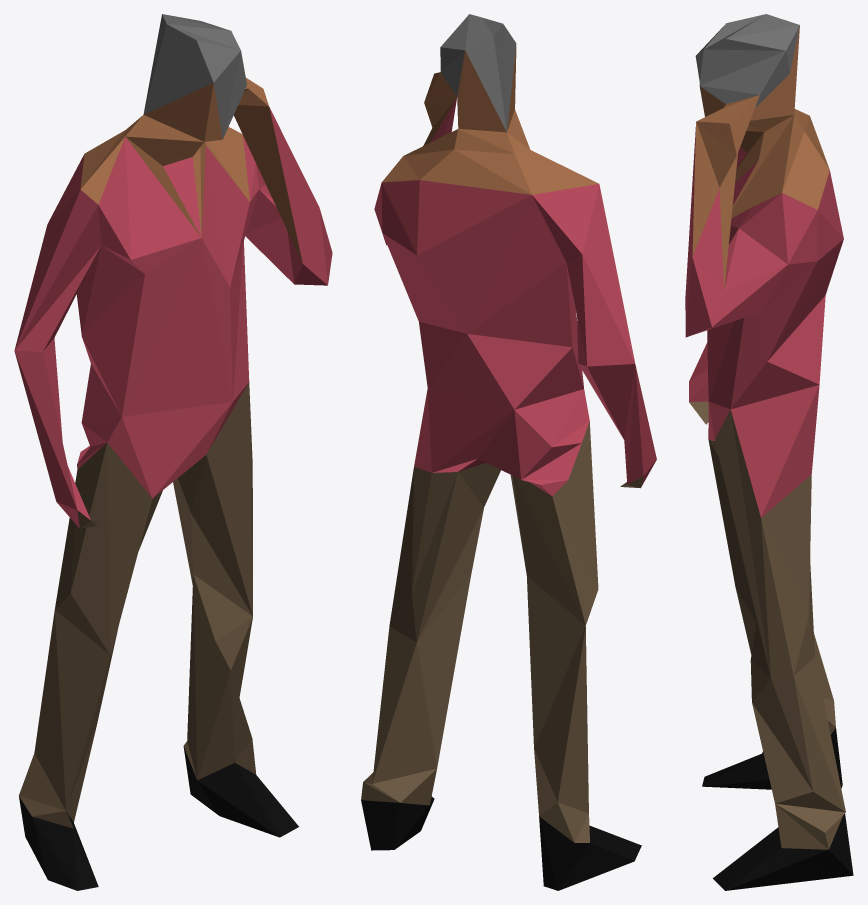
Rendered from walker-35.glb.
3 renders of one model, left to right at view 1: azimuth 30°, elevation 25°; view 2: azimuth 150°, elevation 25°; view 3: azimuth 270°, elevation 25°, orthographic. The views are drawn at different scales.
Visible parts, largest first — view 1: Man06; view 2: Man06; view 3: Man06.
Boxes of the visible parts, bbox=[...] form: Man06: bbox=[14, 14, 332, 890]; Man06: bbox=[361, 14, 656, 890]; Man06: bbox=[685, 14, 853, 890].
Bounding box in the file's own units: 0.6089 × 1.65 × 0.3064.
